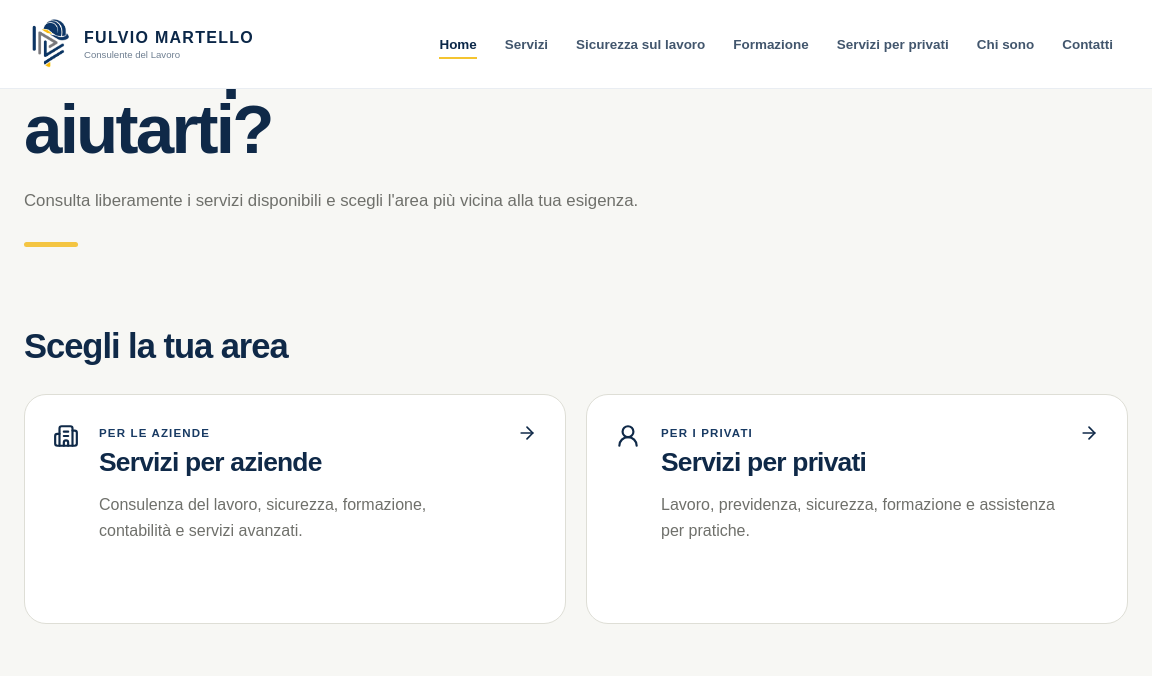
Test: ServicesPage › segue il percorso Aziende → Sicurezza sul lavoro → Valutazione dei rischi
(page scrolled)
Click the button "Servizi per aziende" at (295, 509), box left=24, top=394, right=566, bottom=624
(page scrolled)
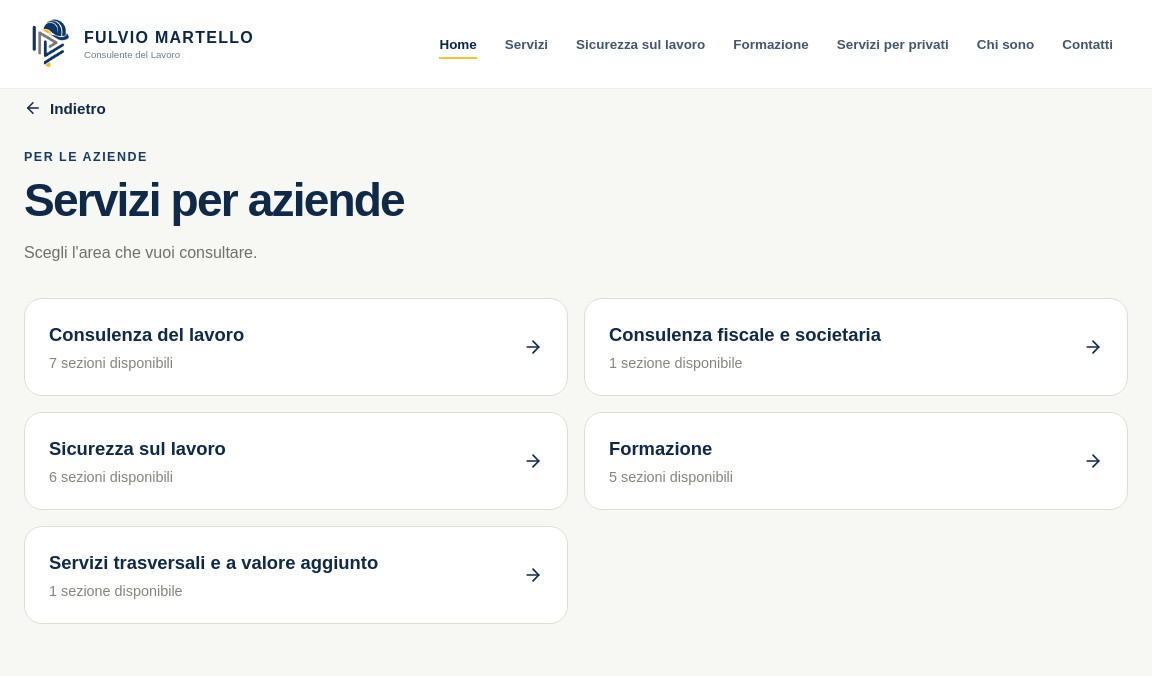
Click the button "Sicurezza sul lavoro 6 sezioni disponibili" at (137, 448), box left=24, top=412, right=568, bottom=510
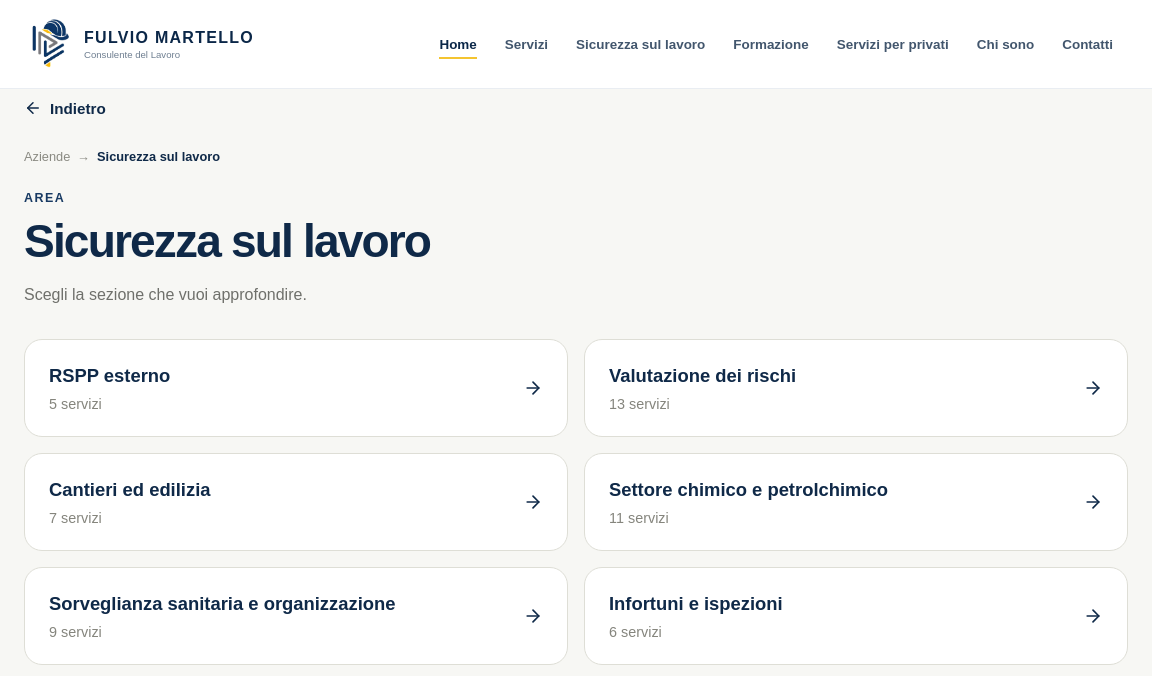
Now the heading "Sicurezza sul lavoro" is shown, box left=24, top=215, right=430, bottom=267
Click the button "Valutazione dei rischi 13 servizi" at (703, 376), box left=584, top=339, right=1128, bottom=437
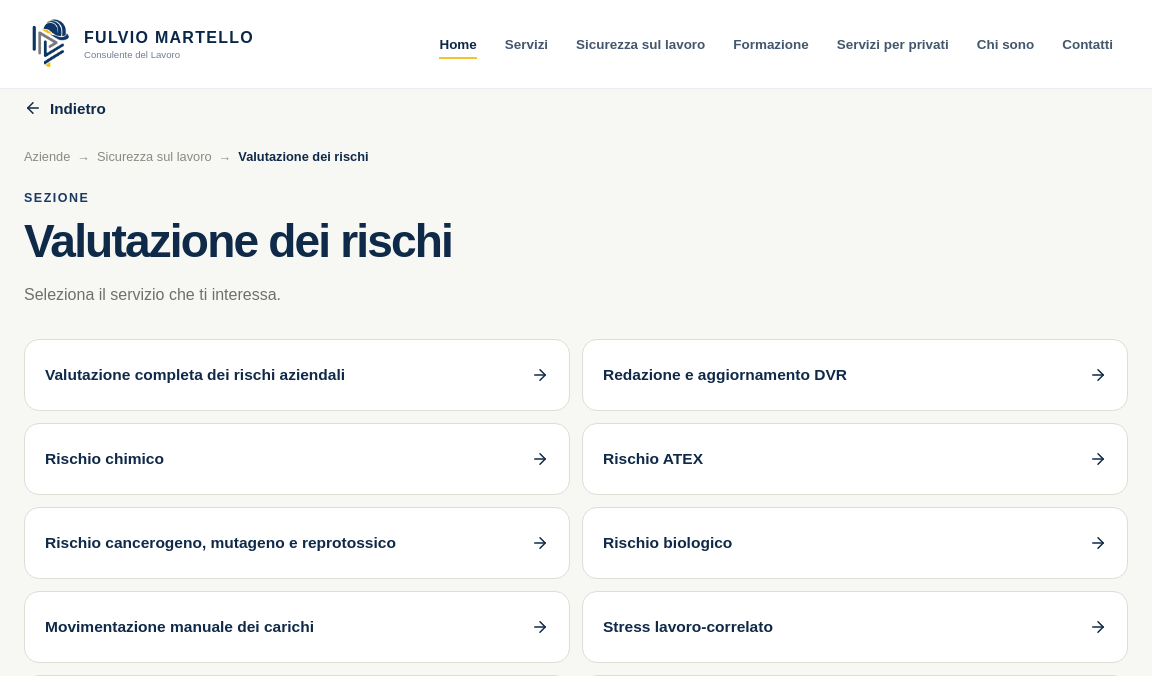
Now the heading "Valutazione dei rischi" is shown, box left=24, top=215, right=452, bottom=267
